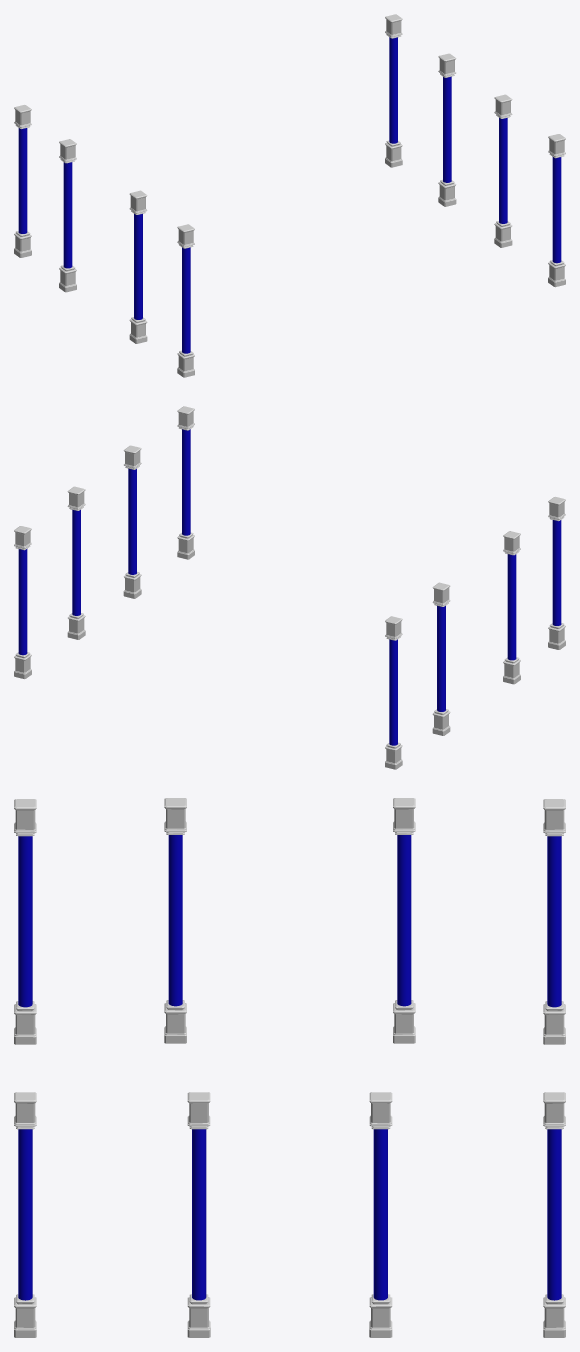
The model's file is Catacomb -1 Columns.fbx.
3 views of the same model, one above another, from view 1: azimuth 30°, elevation 25°; view 2: azimuth 150°, elevation 25°; view 3: azimuth 270°, elevation 25° (orthographic). The views are drawn at different scales.
Visible parts, largest first — view 1: Cube.006, Cube.022, Cube.008; view 2: Cube.006, Cube.022, Cube.008; view 3: Cube.006, Cube.008, Cube.022.
Part boxes in pixels (x1=…): Cube.006: x1=14, y1=14, x2=565, y2=377; Cube.022: x1=59, y1=139, x2=147, y2=343; Cube.008: x1=438, y1=53, x2=512, y2=247; Cube.006: x1=14, y1=406, x2=565, y2=769; Cube.022: x1=432, y1=531, x2=520, y2=735; Cube.008: x1=67, y1=445, x2=141, y2=639; Cube.006: x1=14, y1=799, x2=565, y2=1337; Cube.008: x1=187, y1=1092, x2=392, y2=1337; Cube.022: x1=164, y1=798, x2=415, y2=1043.
Bounding box in the file's own units: 5236 × 1905 × 4022.
